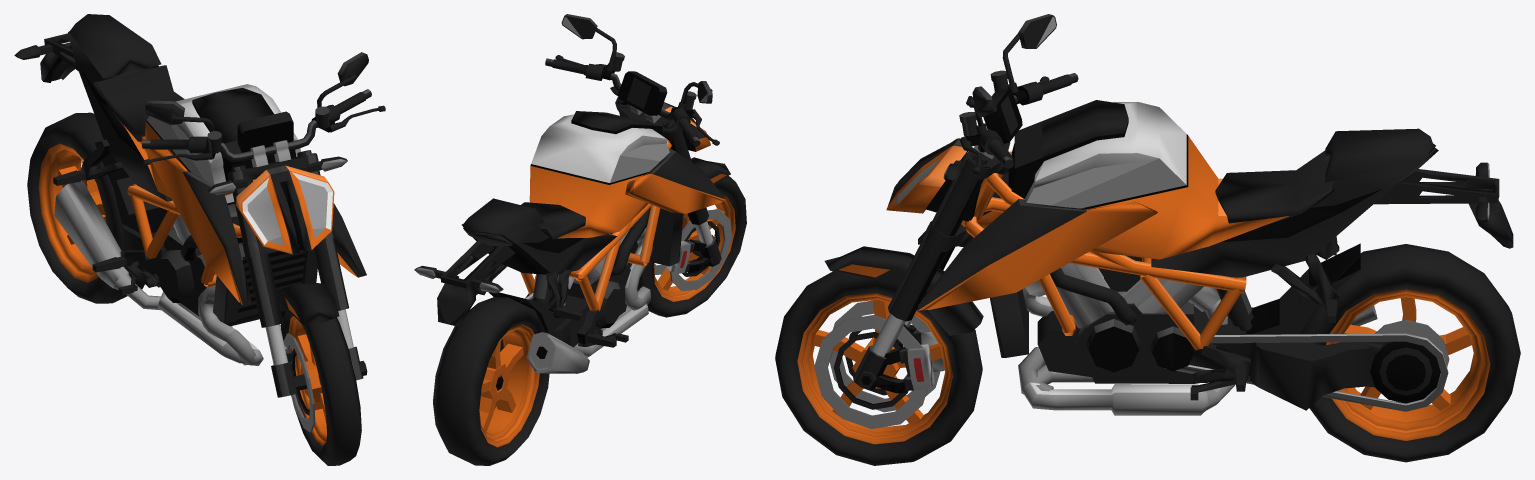
The model's file is duke.glb.
3 views of the same model, side by side, from view 1: azimuth 30°, elevation 25°; view 2: azimuth 150°, elevation 25°; view 3: azimuth 270°, elevation 25° (orthographic). The views are drawn at different scales.
Parts seen in each view (by area): view 1: Bike, Steering, RearWheel, FrontSuspension, FrontWheel, RearSwing; view 2: Bike, RearWheel, FrontWheel, Steering, FrontSuspension, RearSwing; view 3: Bike, RearWheel, FrontWheel, FrontSuspension, RearSwing, Steering.
Part boxes in pixels (box(x1,y1,x2,y2)): Bike: box(14, 14, 366, 365); Steering: box(142, 52, 385, 254); RearWheel: box(27, 112, 144, 303); FrontSuspension: box(227, 150, 363, 397); FrontWheel: box(280, 311, 367, 465); RearSwing: box(123, 225, 166, 276); Bike: box(414, 111, 725, 373); RearWheel: box(433, 297, 549, 465); FrontWheel: box(640, 176, 746, 317); Steering: box(545, 14, 719, 151); FrontSuspension: box(615, 96, 730, 273); RearSwing: box(500, 293, 595, 351); Bike: box(918, 100, 1513, 415); RearWheel: box(1300, 244, 1520, 462); FrontWheel: box(775, 271, 982, 465); FrontSuspension: box(824, 142, 1013, 393); RearSwing: box(1164, 306, 1448, 411); Steering: box(886, 14, 1078, 226).
Bounding box in the file's own units: 0.824 × 1.3 × 2.12.
1 material, 1 textured.
